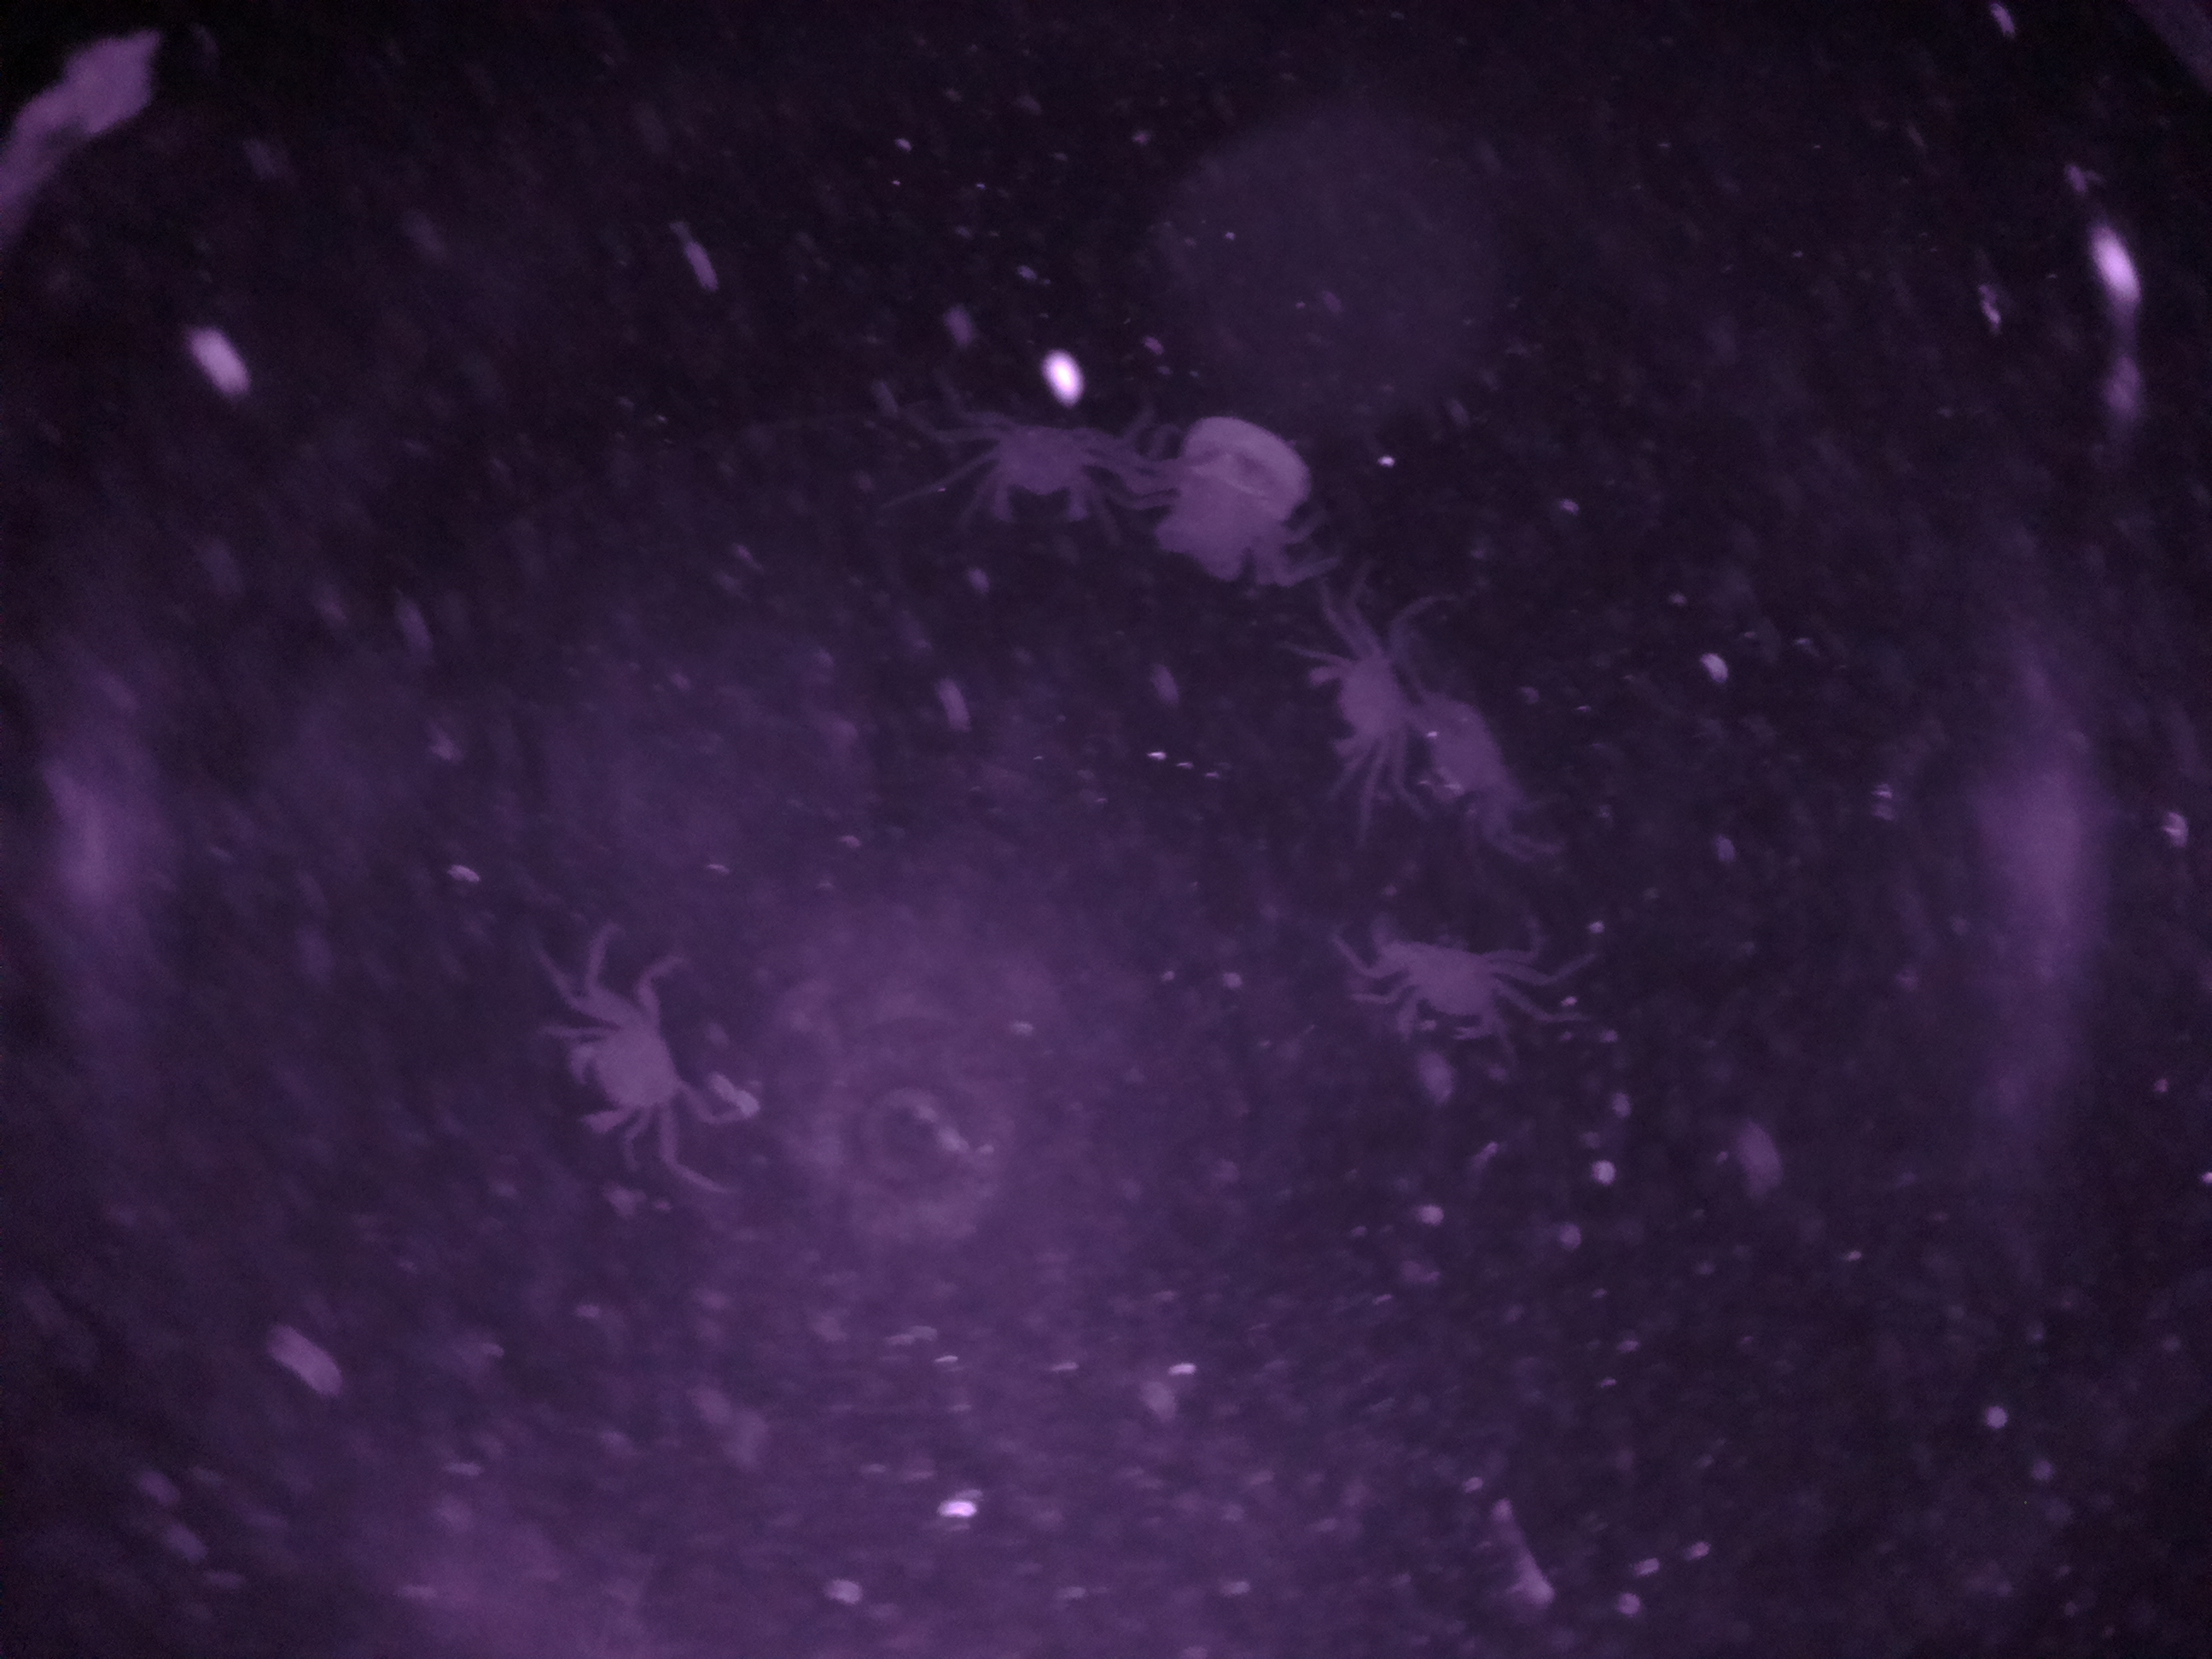Crab: (538, 931, 698, 1182), (1336, 894, 1571, 1056), (1296, 579, 1430, 805)
